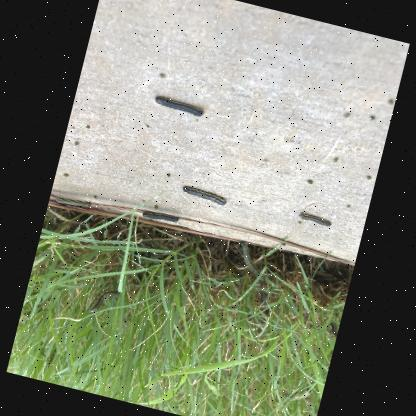Fall Armyworm Larvae: (232, 238, 276, 283), (84, 279, 124, 320), (152, 93, 206, 119), (180, 184, 230, 208), (140, 206, 182, 228), (52, 192, 93, 214), (296, 209, 335, 230), (282, 382, 312, 406), (43, 340, 62, 372), (324, 320, 340, 339)
